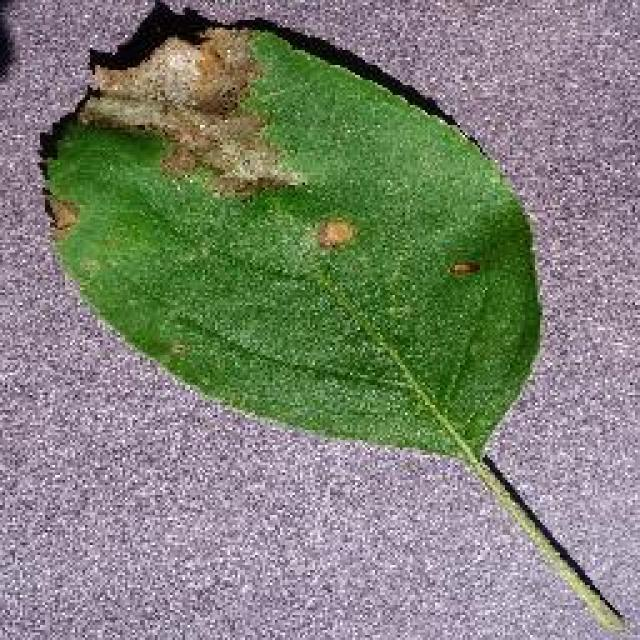black_rot: (61, 27, 281, 188), (304, 210, 366, 252), (39, 188, 88, 241)
